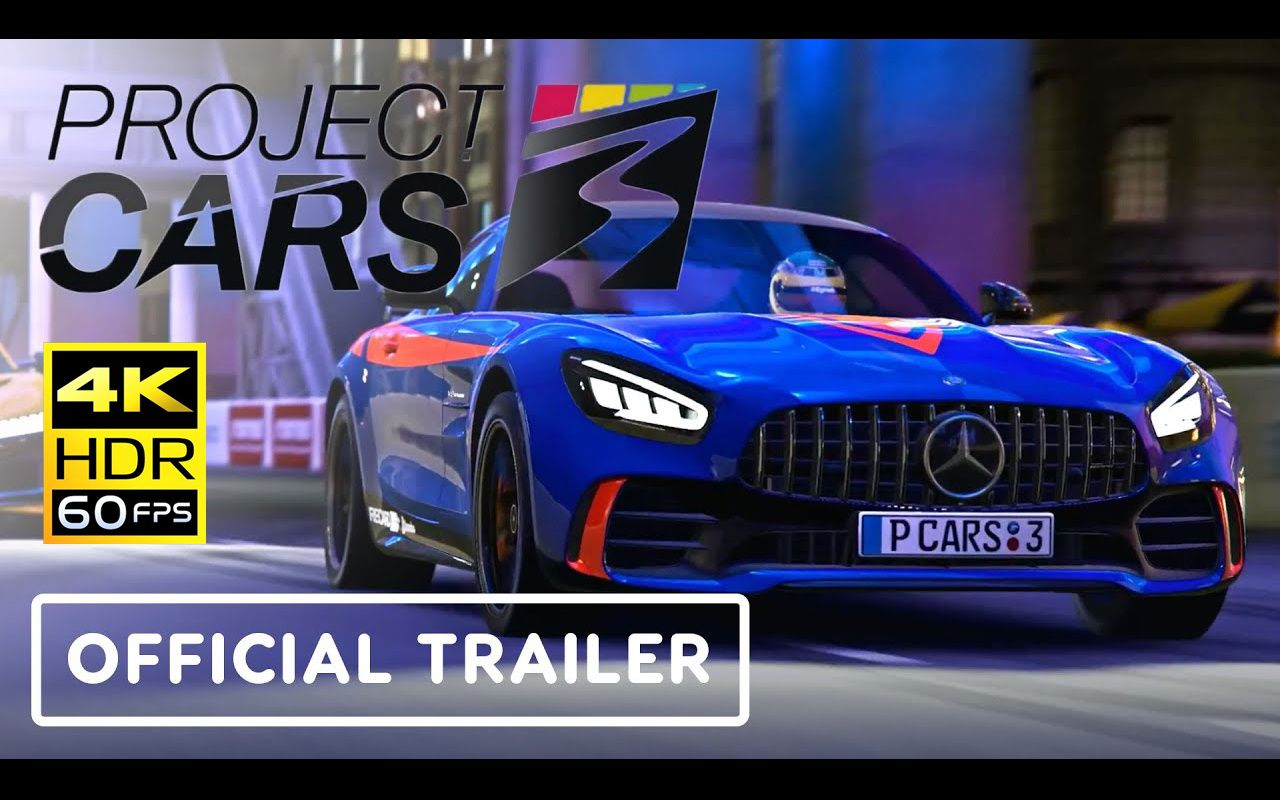other: (281, 176, 1262, 645)
